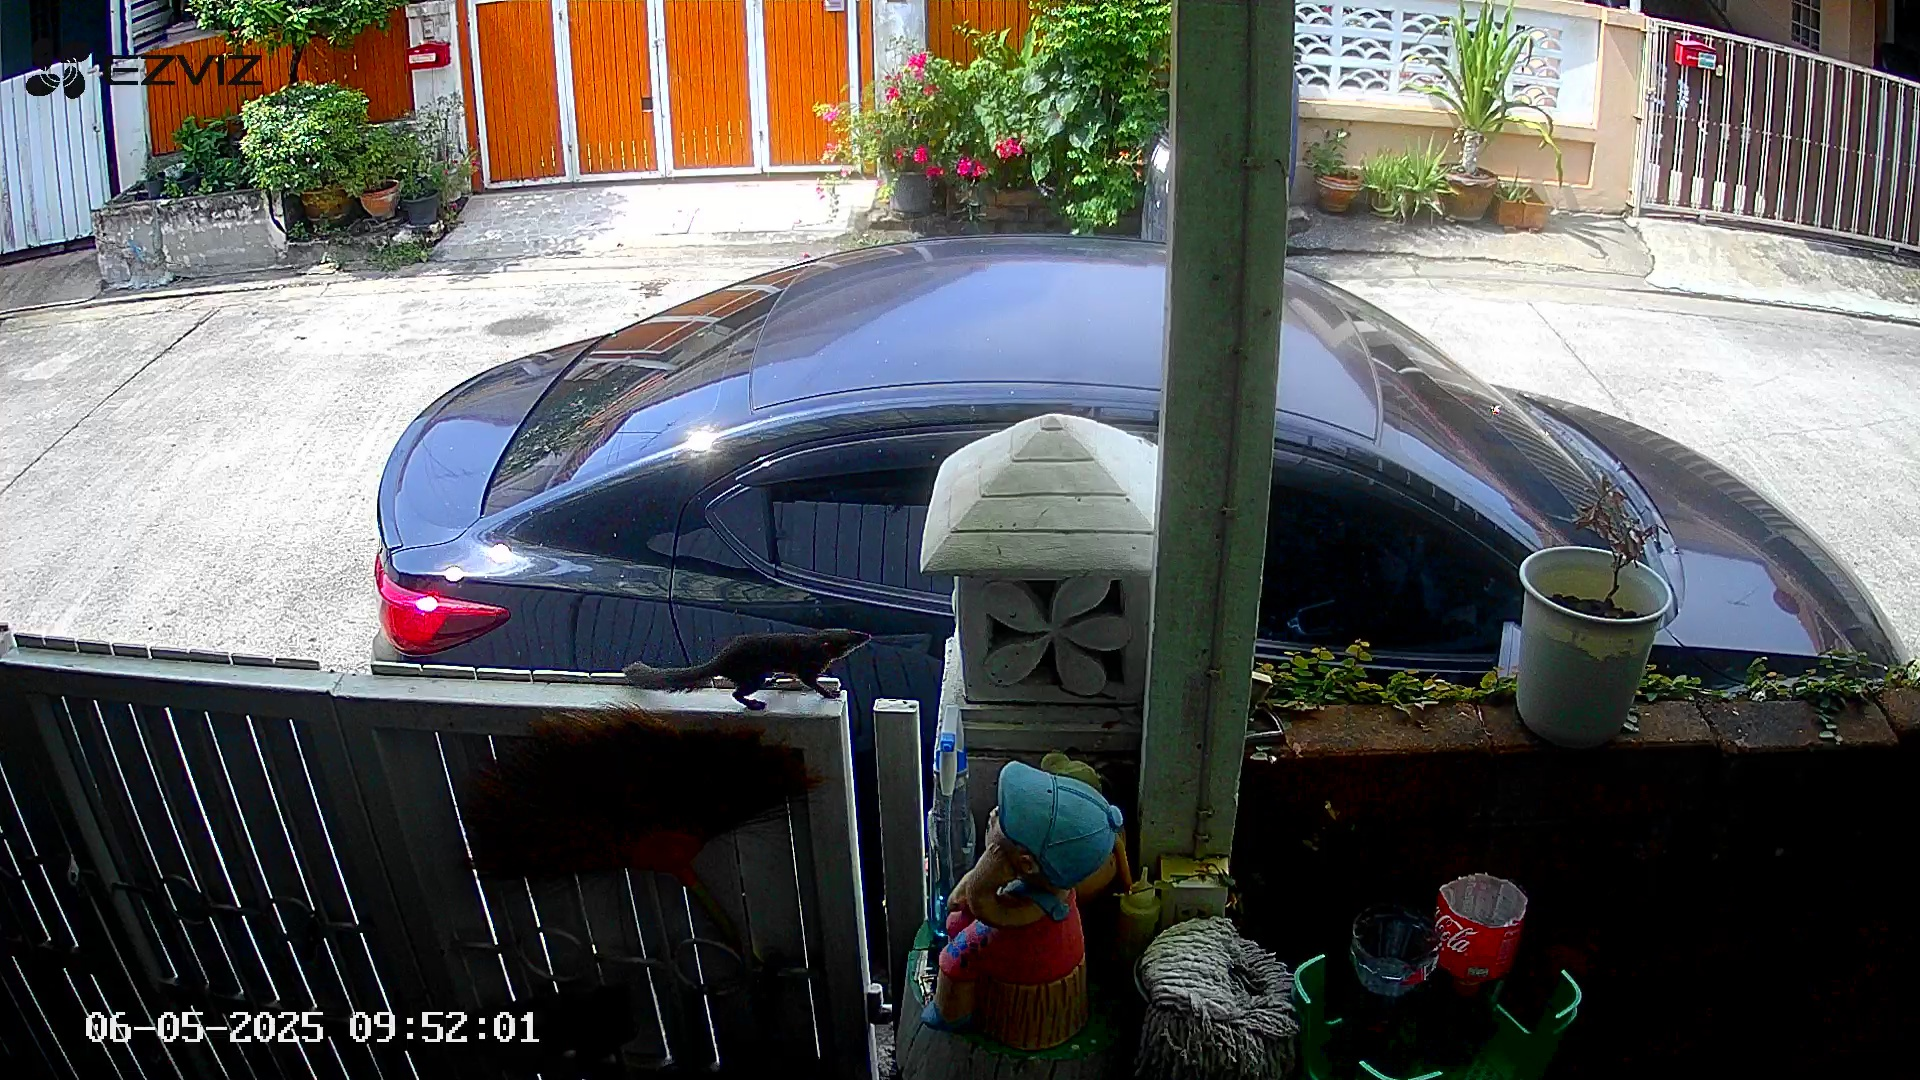mycar: (351, 223, 1905, 949)
